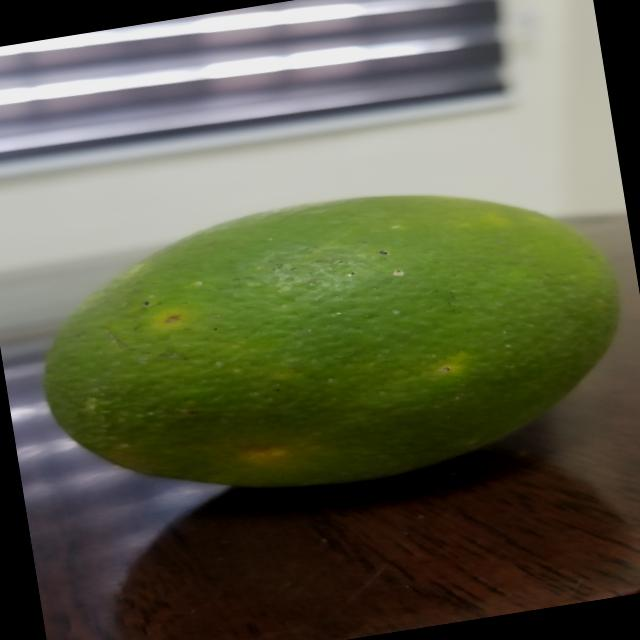Ripe orange: (29, 147, 640, 530)
